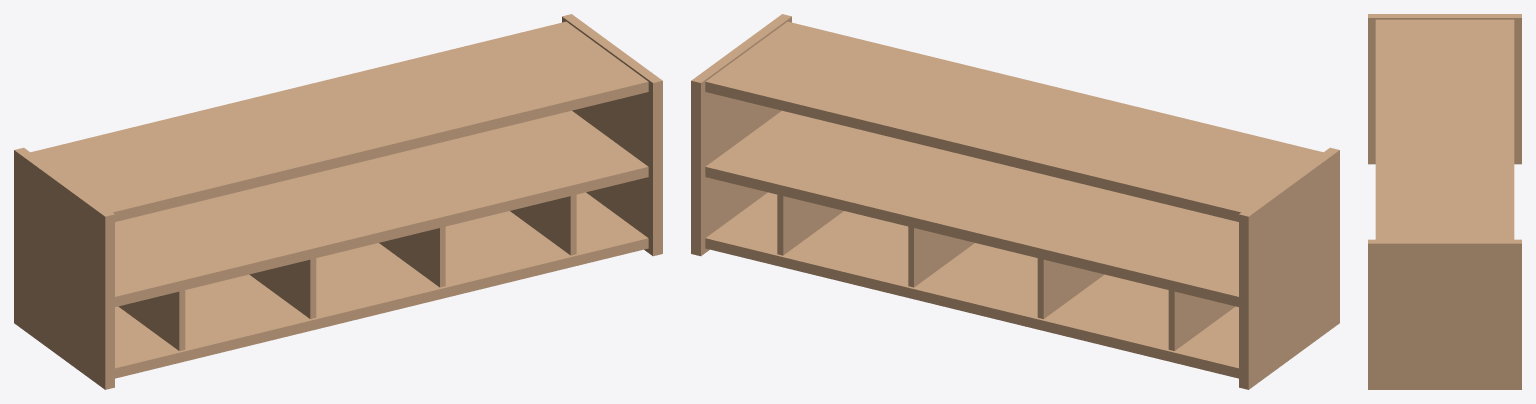
File: shelf-small.glb
3 views of the same model, side by side, from view 1: azimuth 30°, elevation 25°; view 2: azimuth 150°, elevation 25°; view 3: azimuth 270°, elevation 25° (orthographic). The views are drawn at different scales.
Visible parts, largest first — view 1: Shelf_Small1; view 2: Shelf_Small1; view 3: Shelf_Small1.
Boxes of the visible parts, left/top/right/bottom form: Shelf_Small1: left=14, top=14, right=662, bottom=389; Shelf_Small1: left=691, top=14, right=1339, bottom=389; Shelf_Small1: left=1368, top=14, right=1521, bottom=389.
Bounding box in the file's own units: 1.94 × 0.5773 × 0.5505.
